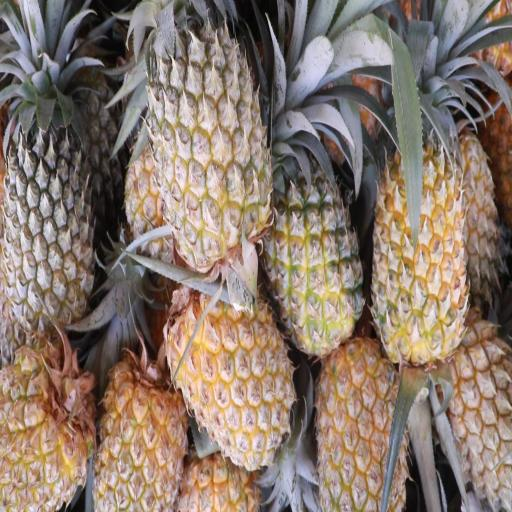------------------------------: (146, 0, 279, 293), (263, 109, 368, 362)
Pineapple - v8 v1: (366, 71, 473, 371), (167, 263, 302, 479), (0, 334, 104, 512), (314, 334, 416, 511), (92, 359, 192, 511), (445, 504, 451, 512)
